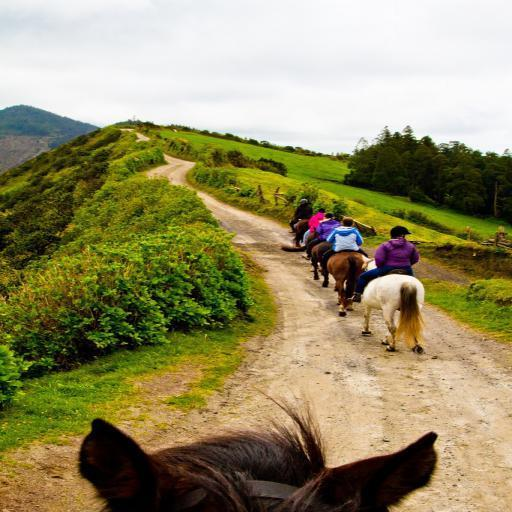horse: (73, 386, 437, 511), (361, 253, 429, 354), (322, 252, 368, 318), (312, 227, 336, 287), (290, 221, 310, 247)
